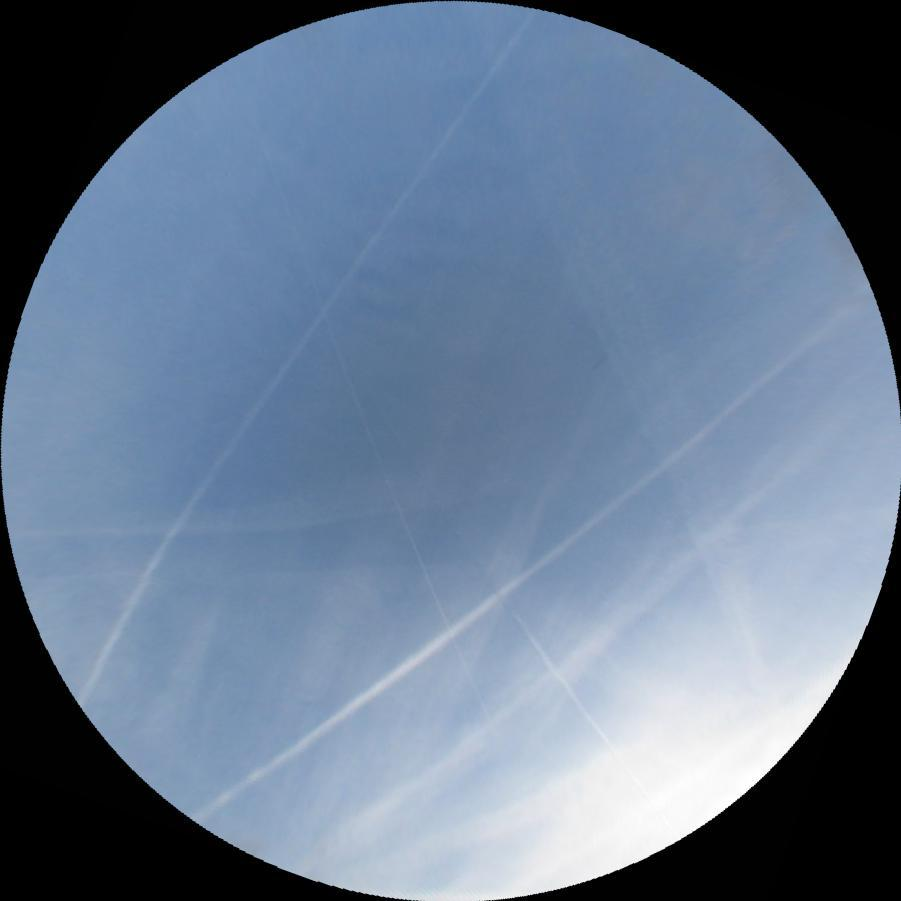contrail old: (191, 291, 869, 833), (57, 0, 538, 709)
contrail veryold: (294, 407, 859, 888), (485, 66, 796, 679), (15, 466, 455, 572)
contrail young: (299, 269, 498, 740), (506, 604, 687, 835)
